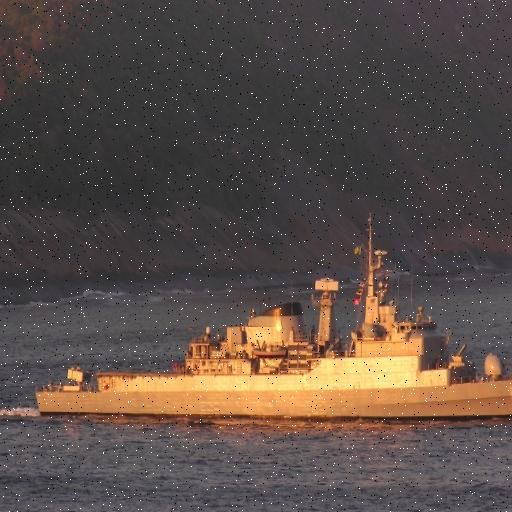Fragata: (30, 209, 512, 436)
